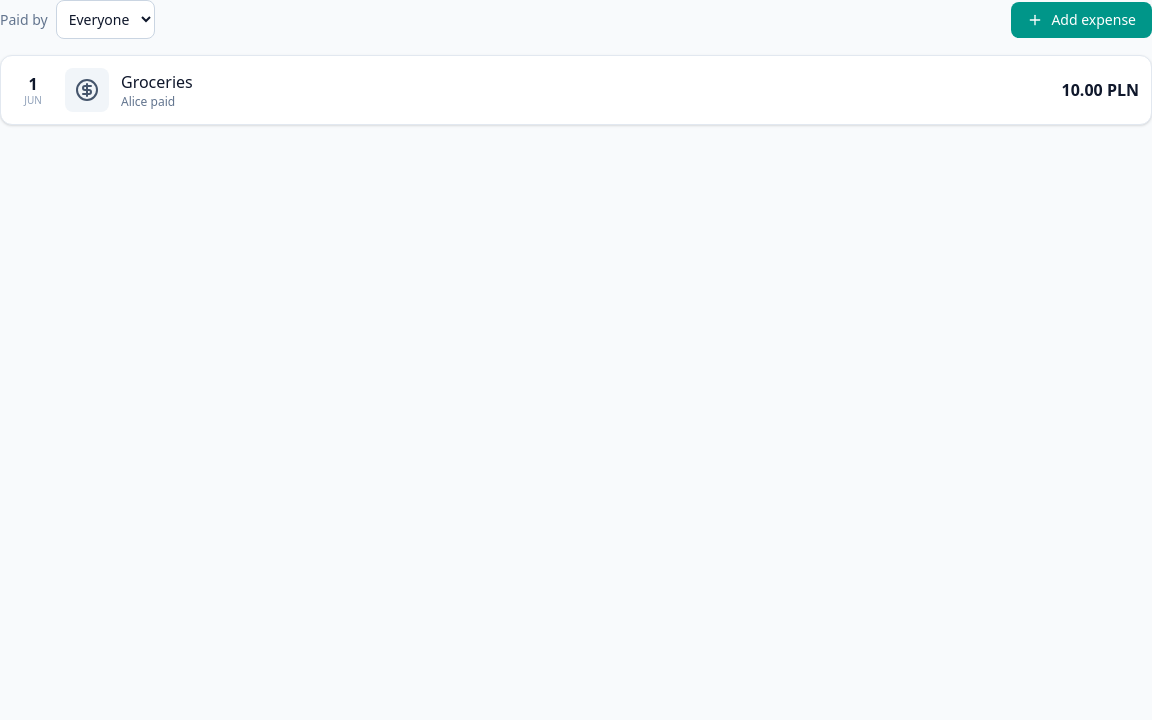
ExpensesTab — edit attribution › stays quiet when the author edited their own expense
Click the text "Groceries" at (157,82), box left=121, top=71, right=193, bottom=93
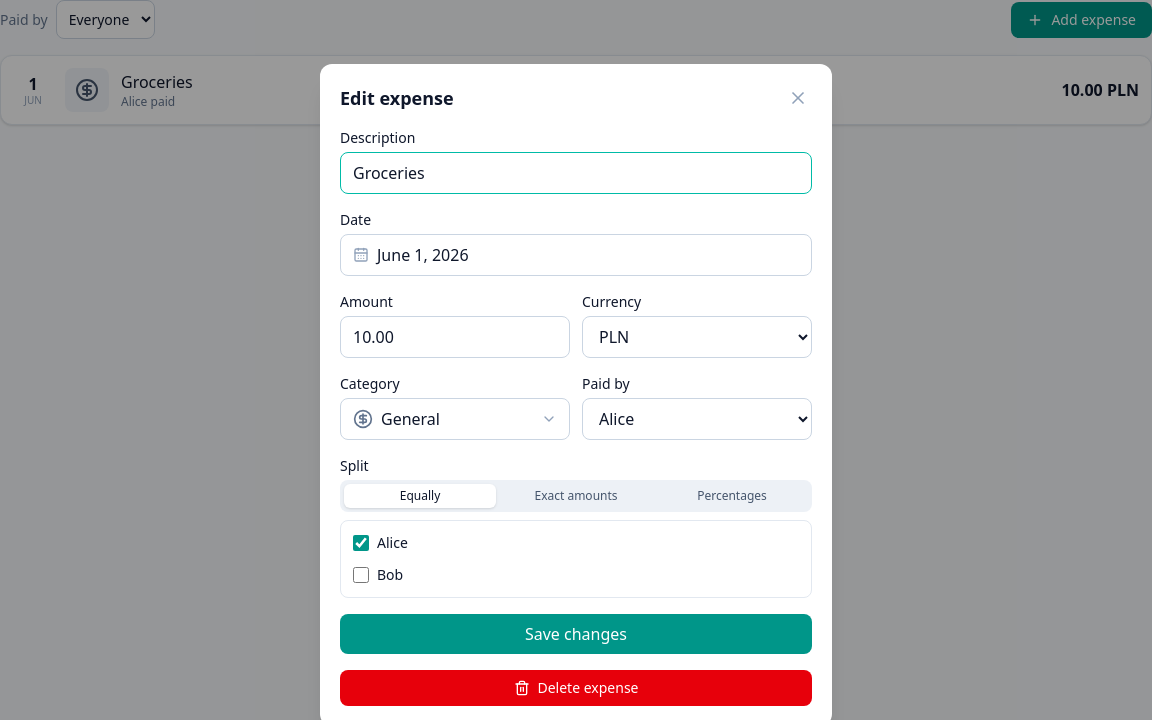
Expected: the button "Delete expense" is shown, left=340, top=670, right=812, bottom=706
